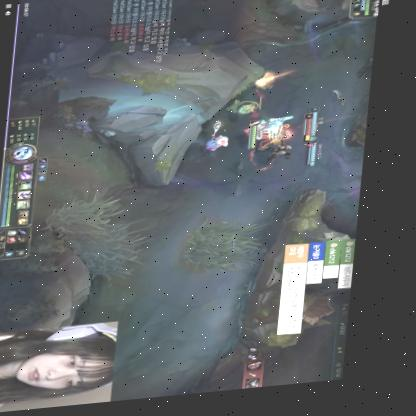streamer: (0, 324, 125, 414)
